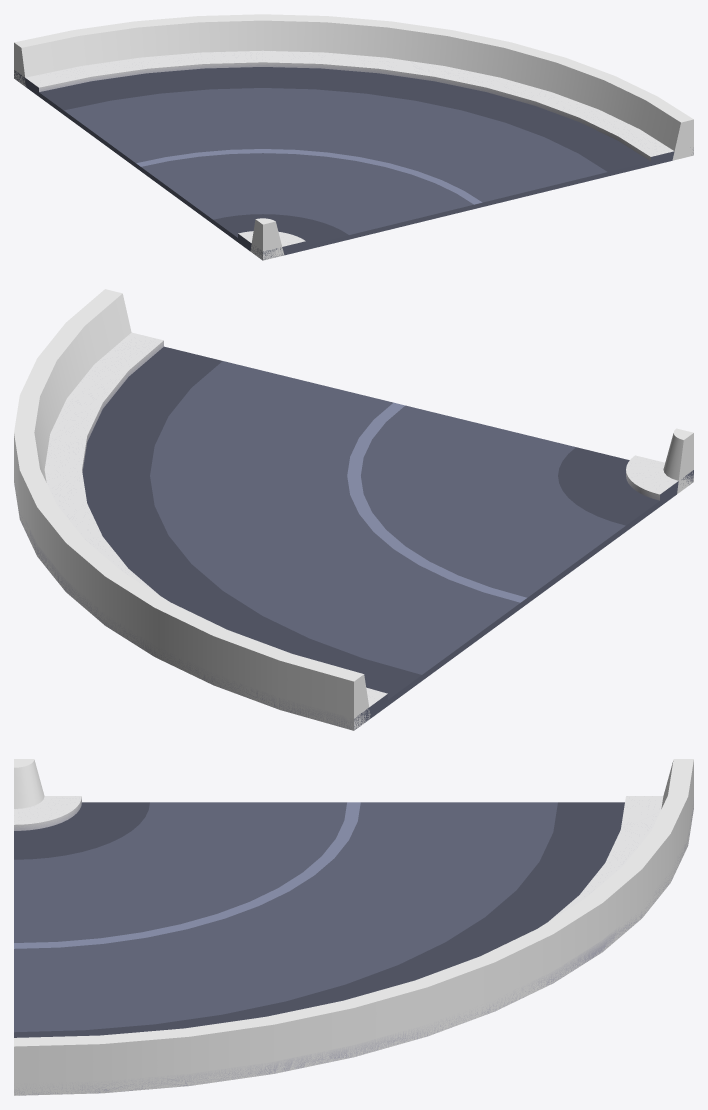
File: bend.glb
The picture shows the model from 3 angles, top to bottom: view 1: azimuth 30°, elevation 25°; view 2: azimuth 150°, elevation 25°; view 3: azimuth 270°, elevation 25°; orthographic projection. The views are drawn at different scales.
Parts seen in each view (by area): view 1: road-bend-barrier; view 2: road-bend-barrier; view 3: road-bend-barrier.
Boxes of the visible parts, left/top/right/bottom form: road-bend-barrier: left=14, top=14, right=693, bottom=260; road-bend-barrier: left=14, top=289, right=693, bottom=730; road-bend-barrier: left=14, top=759, right=693, bottom=1095.
Bounding box in the file's own units: 1 × 0.08 × 1.
1 material, 1 textured.
